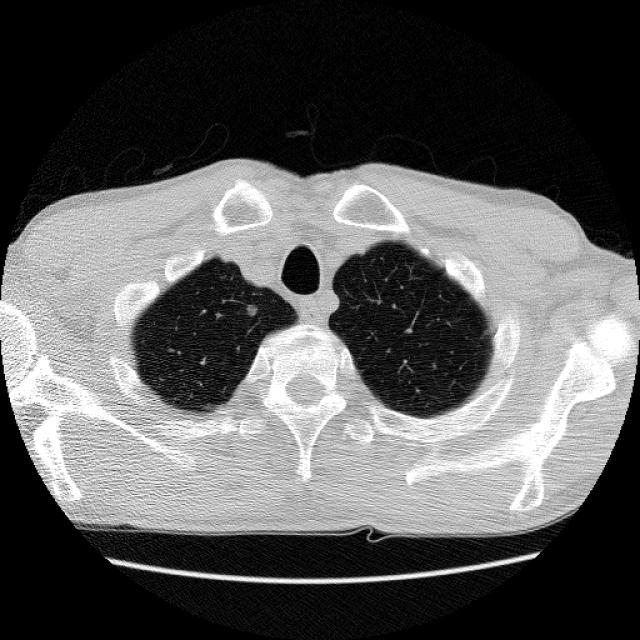nodule: (237, 295, 265, 323)
